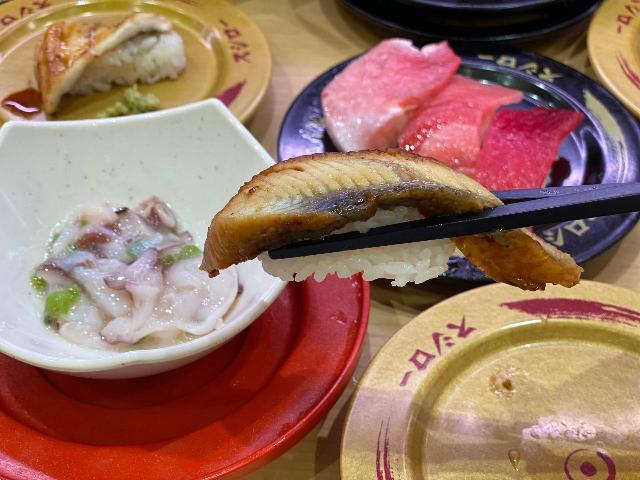janback: (580, 83, 640, 247), (478, 48, 589, 91), (282, 103, 321, 153)
jangold: (314, 287, 640, 480), (182, 0, 278, 110), (592, 0, 640, 119), (0, 66, 47, 133), (45, 0, 183, 22), (0, 0, 44, 64)
